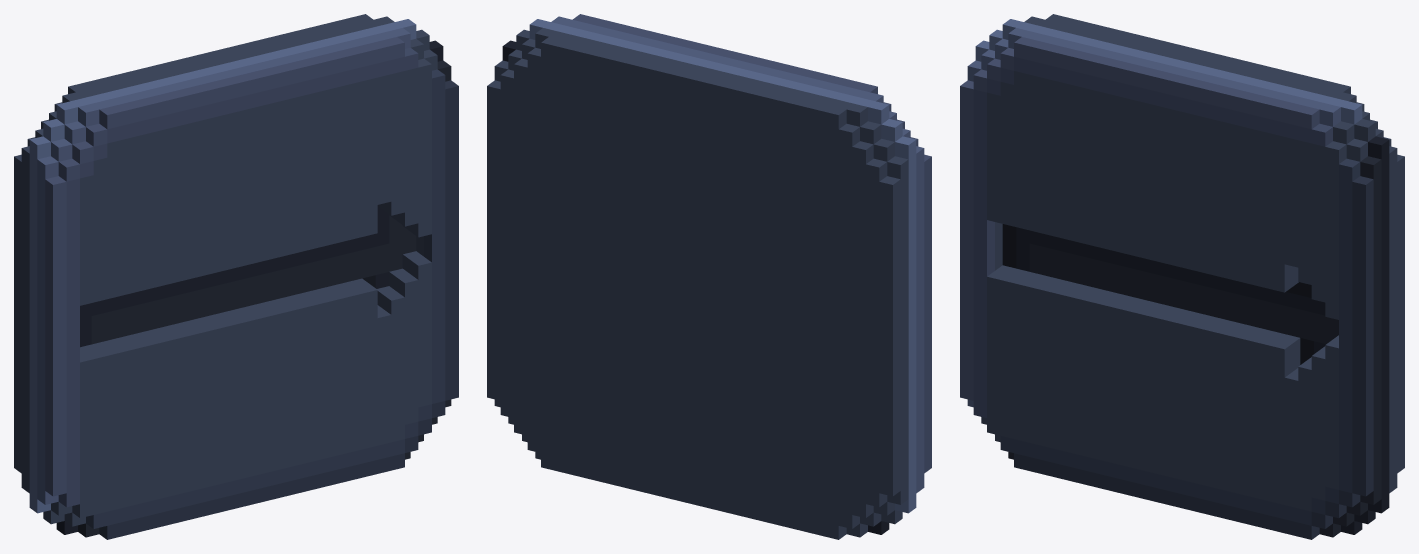
File: Largo.obj
3 renders of one model, left to right at view 1: azimuth 30°, elevation 25°; view 2: azimuth 150°, elevation 25°; view 3: azimuth 330°, elevation 25°, orthographic.
Size of the model in its own units: 3 by 3 by 0.5.
Materials: 1 (1 with a texture image).
